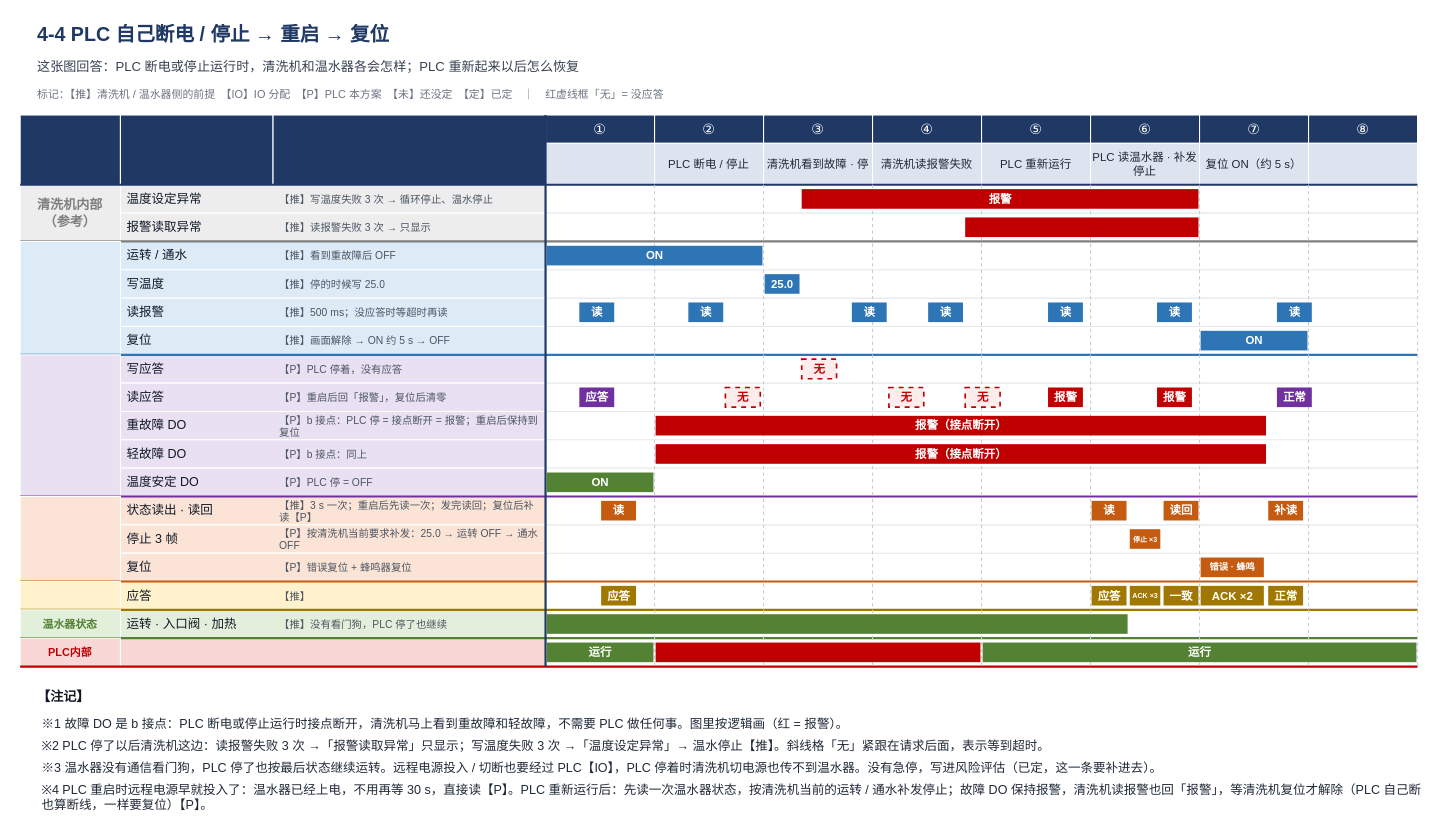
This 1446x838 diagram has some shape labels left out. Here are the shapes that lost their labels. From the top down, the centre of each, then its label:
At pixel 69 149: "区分".
At pixel 196 149: "信号".
At pixel 409 149: "备考".
At pixel 599 163: "供水中".
At pixel 1362 163: "复位 OFF · 检查".
At pixel 1081 227: "报警（只显示）".
At pixel 69 297: "清洗机 → PLC".
At pixel 69 425: "PLC → 清洗机".
At pixel 69 538: "PLC → 温水器".
At pixel 69 595: "温水器→ PLC".
At pixel 836 623: "继续运转（停不下来）".
At pixel 332 652: "PLC 运行".
At pixel 817 652: "停止 / 断电".
